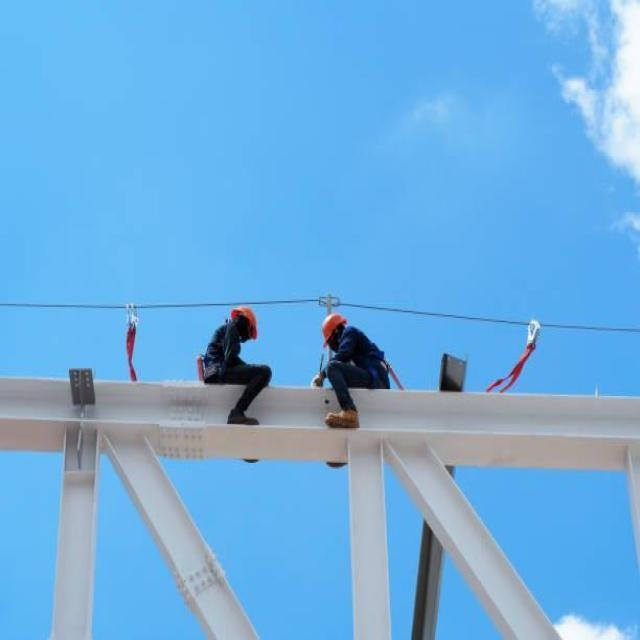Arnes_seguridad: (200, 317, 239, 383), (342, 324, 389, 370)
